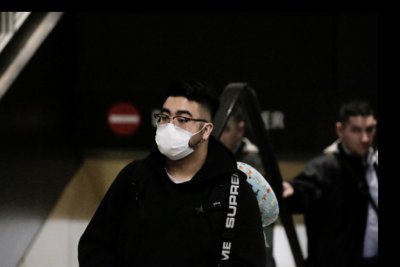with_mask: (154, 105, 202, 160)
without_mask: (349, 119, 378, 155)
